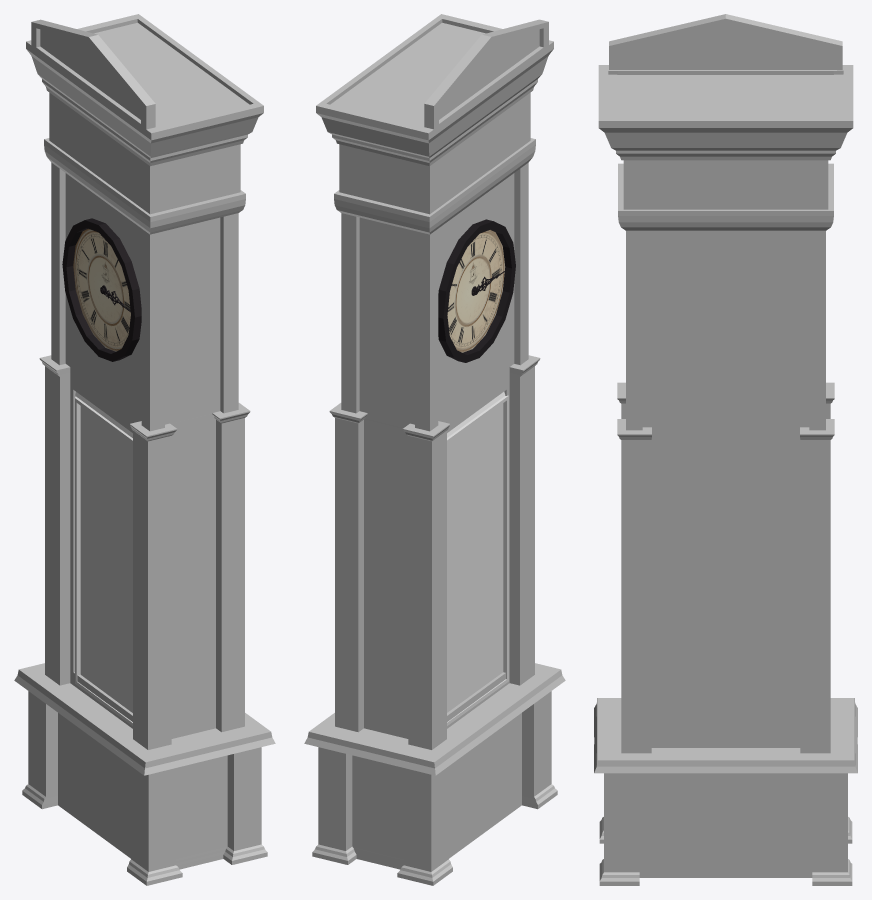
File: BigClock.fbx
3 renders of one model, left to right at view 1: azimuth 30°, elevation 25°; view 2: azimuth 150°, elevation 25°; view 3: azimuth 270°, elevation 25°, orthographic.
Visible parts, largest first — view 1: Plane.010, Plane.008, Cube.028; view 2: Plane.010, Plane.008, Cube.028; view 3: Plane.010.
Boxes of the visible parts, left/top/right/bottom form: Plane.010: left=14, top=14, right=275, bottom=885; Plane.008: left=75, top=392, right=132, bottom=726; Cube.028: left=62, top=218, right=141, bottom=361; Plane.010: left=304, top=14, right=565, bottom=885; Plane.008: left=447, top=391, right=508, bottom=725; Cube.028: left=438, top=219, right=515, bottom=362; Plane.010: left=594, top=14, right=857, bottom=885.
Bounding box in the file's own units: 72.11 × 420 × 124.
